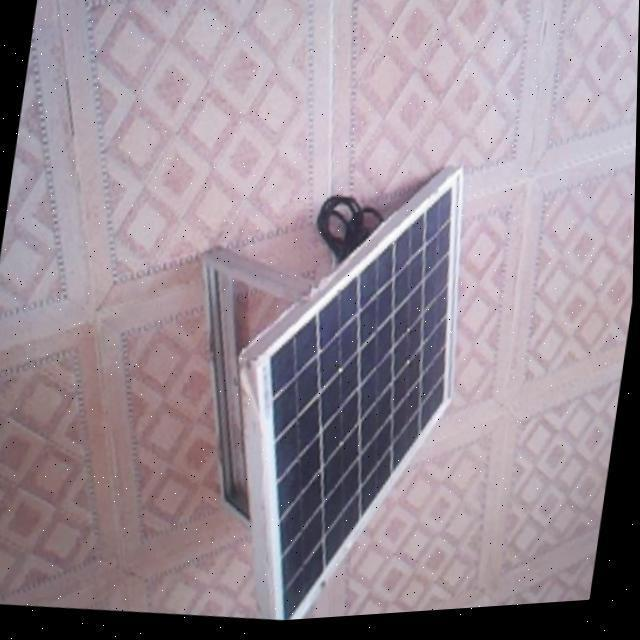Normal Solar Panel: (237, 178, 476, 627)
